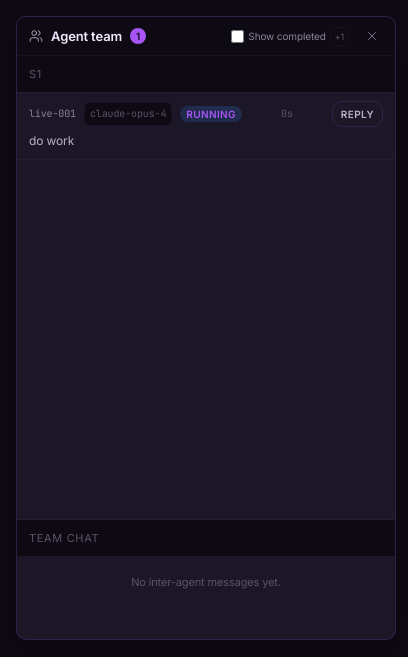
Test: AgentTeamPanel — completed-agent filter › toggling "Show completed" reveals terminated agents
Expected: the text "done-002" is not shown
Click the checkbox with test id "agent-team-show-completed".
click(238, 36)  # box [231,30,244,42]
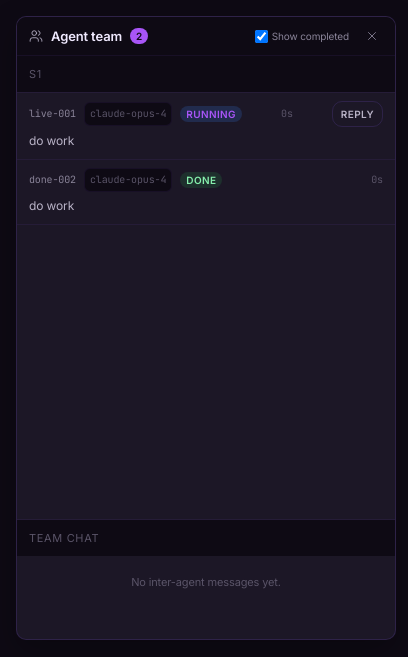
Now the text "done-002" is shown, box [29,170,76,190]
